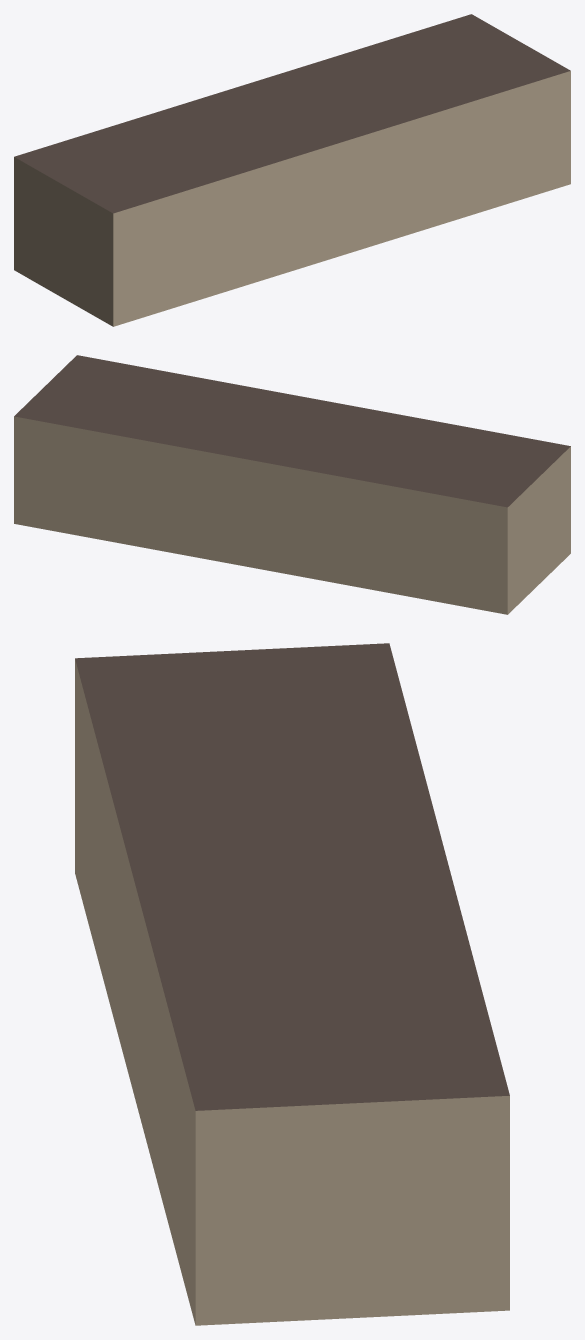
The picture shows the model from 3 angles, top to bottom: view 1: azimuth 30°, elevation 25°; view 2: azimuth 150°, elevation 25°; view 3: azimuth 270°, elevation 25°; orthographic projection. The views are drawn at different scales.
Parts seen in each view (by area): view 1: HP-w1286955416; view 2: HP-w1286955416; view 3: HP-w1286955416.
Part boxes in pixels (x1,y1,x2,y2): HP-w1286955416: [14, 14, 570, 326]; HP-w1286955416: [14, 355, 570, 614]; HP-w1286955416: [75, 643, 509, 1325].
Bounding box in the file's own units: 42.02 × 9 × 16.52.
